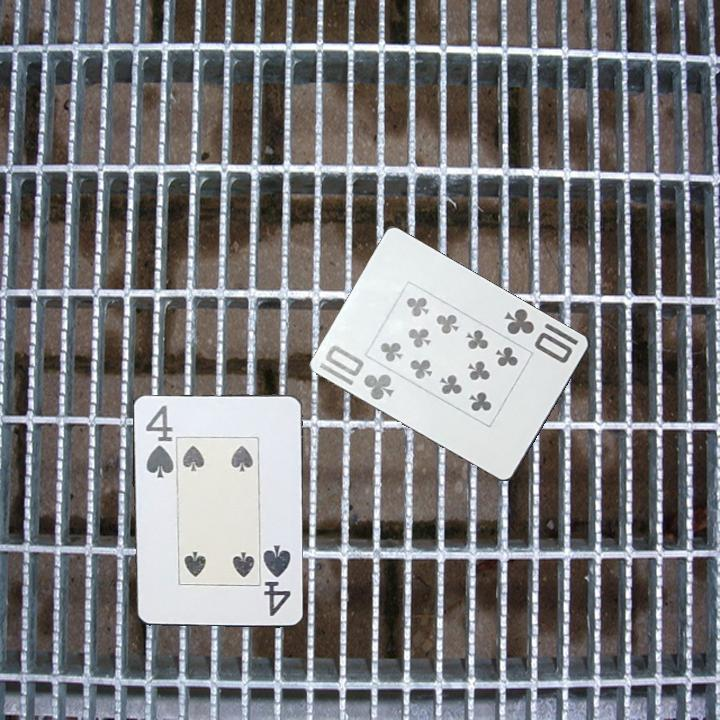4s: (260, 539, 293, 619), (142, 401, 175, 480)
Tc: (316, 339, 398, 408), (501, 304, 576, 366)
